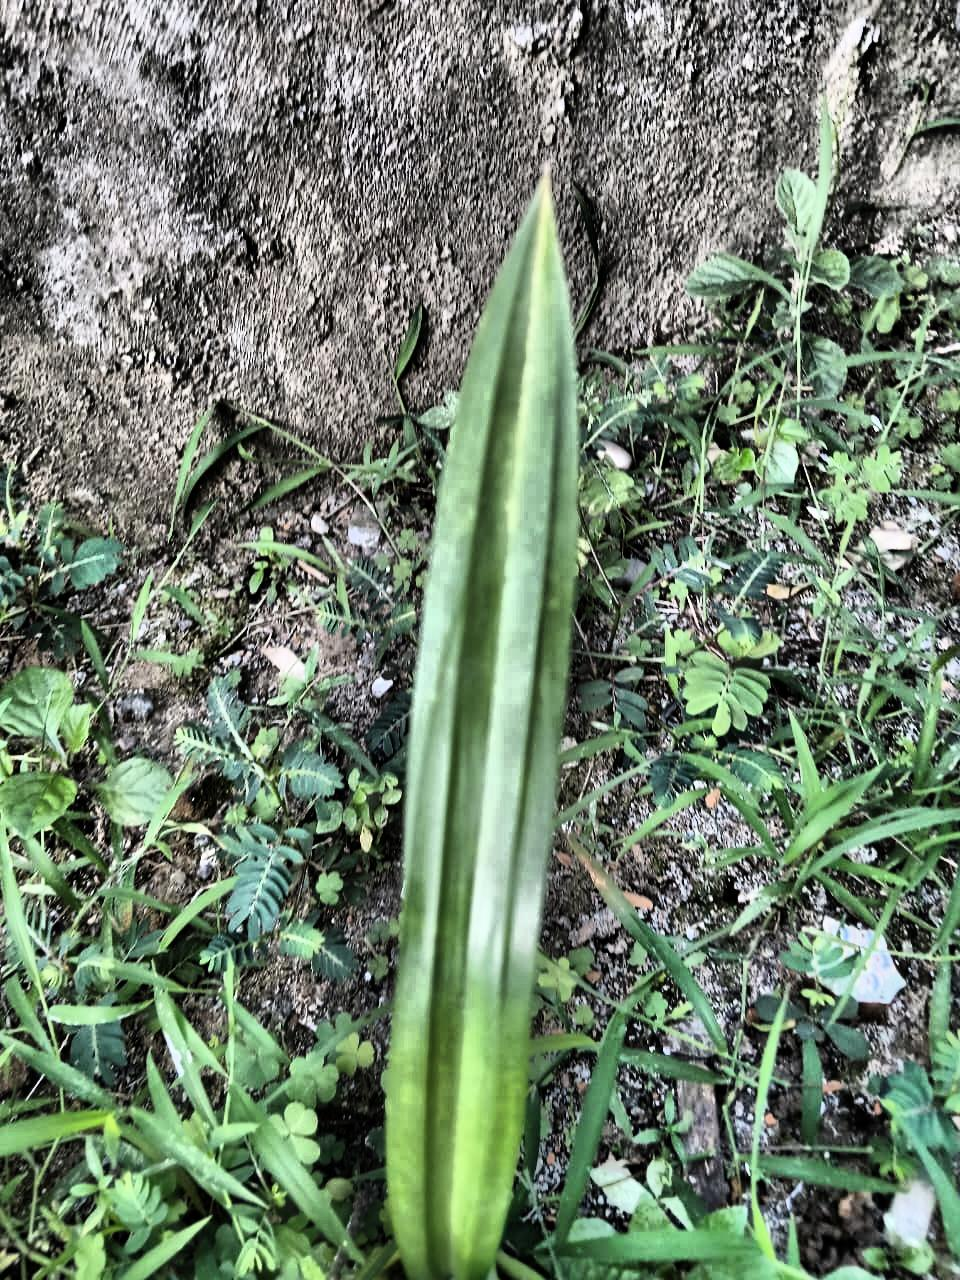daun pandan: (384, 176, 579, 1279)
